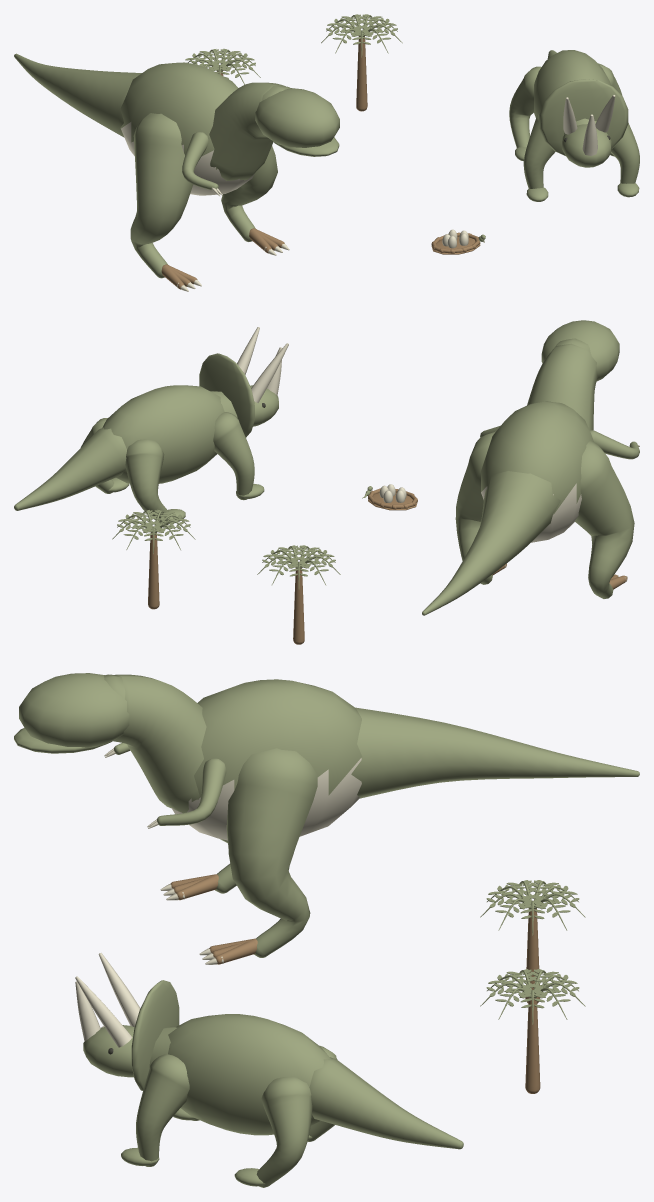
3 renders of one model, top to bottom at view 1: azimuth 30°, elevation 25°; view 2: azimuth 150°, elevation 25°; view 3: azimuth 270°, elevation 25°, orthographic. The views are drawn at different scales.
Parts seen in each view (by area): view 1: 000-tyrannosaurus/0, 001-triceratops/0, 000-tyrannosaurus/1, 005-tree-fern/1, 001-triceratops/2, 004-tree-fern/1, 000-tyrannosaurus/3, 005-tree-fern/0, 002-nest-with-eggs/0; view 2: 000-tyrannosaurus/0, 001-triceratops/0, 004-tree-fern/1, 005-tree-fern/1, 001-triceratops/2, 000-tyrannosaurus/1, 004-tree-fern/0, 005-tree-fern/0, 002-nest-with-eggs/0; view 3: 000-tyrannosaurus/0, 001-triceratops/0, 000-tyrannosaurus/1, 001-triceratops/2, 005-tree-fern/1, 004-tree-fern/1, 000-tyrannosaurus/3, 005-tree-fern/0, 004-tree-fern/0.
Part boxes in pixels (bbox=[...]): 000-tyrannosaurus/0: bbox=[14, 53, 339, 278]; 001-triceratops/0: bbox=[509, 50, 639, 201]; 000-tyrannosaurus/1: bbox=[121, 122, 289, 291]; 005-tree-fern/1: bbox=[321, 14, 402, 57]; 001-triceratops/2: bbox=[563, 94, 615, 155]; 004-tree-fern/1: bbox=[185, 48, 260, 84]; 000-tyrannosaurus/3: bbox=[161, 228, 284, 289]; 005-tree-fern/0: bbox=[356, 36, 367, 111]; 002-nest-with-eggs/0: bbox=[431, 232, 480, 254]; 000-tyrannosaurus/0: bbox=[422, 320, 639, 615]; 001-triceratops/0: bbox=[14, 353, 278, 524]; 004-tree-fern/1: bbox=[257, 545, 340, 589]; 005-tree-fern/1: bbox=[112, 509, 195, 553]; 001-triceratops/2: bbox=[237, 327, 288, 402]; 000-tyrannosaurus/1: bbox=[481, 445, 639, 583]; 004-tree-fern/0: bbox=[293, 568, 304, 644]; 005-tree-fern/0: bbox=[148, 532, 159, 609]; 002-nest-with-eggs/0: bbox=[368, 488, 417, 510]; 000-tyrannosaurus/0: bbox=[14, 673, 639, 957]; 001-triceratops/0: bbox=[83, 980, 463, 1187]; 000-tyrannosaurus/1: bbox=[104, 748, 361, 964]; 001-triceratops/2: bbox=[75, 953, 140, 1047]; 005-tree-fern/1: bbox=[480, 969, 585, 1024]; 004-tree-fern/1: bbox=[480, 880, 585, 935]; 000-tyrannosaurus/3: bbox=[170, 874, 257, 964]; 005-tree-fern/0: bbox=[525, 997, 540, 1093]; 004-tree-fern/0: bbox=[525, 908, 540, 1003].
Size of the model in its own units: 14.44 by 5.52 by 11.88.
